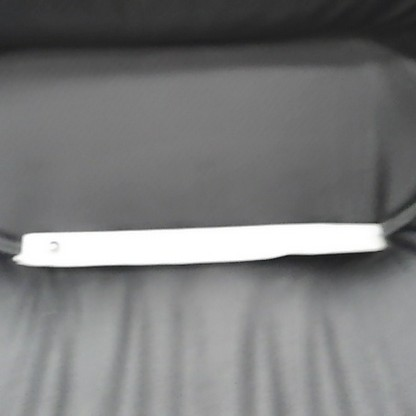ironball: (45, 237, 60, 252)
